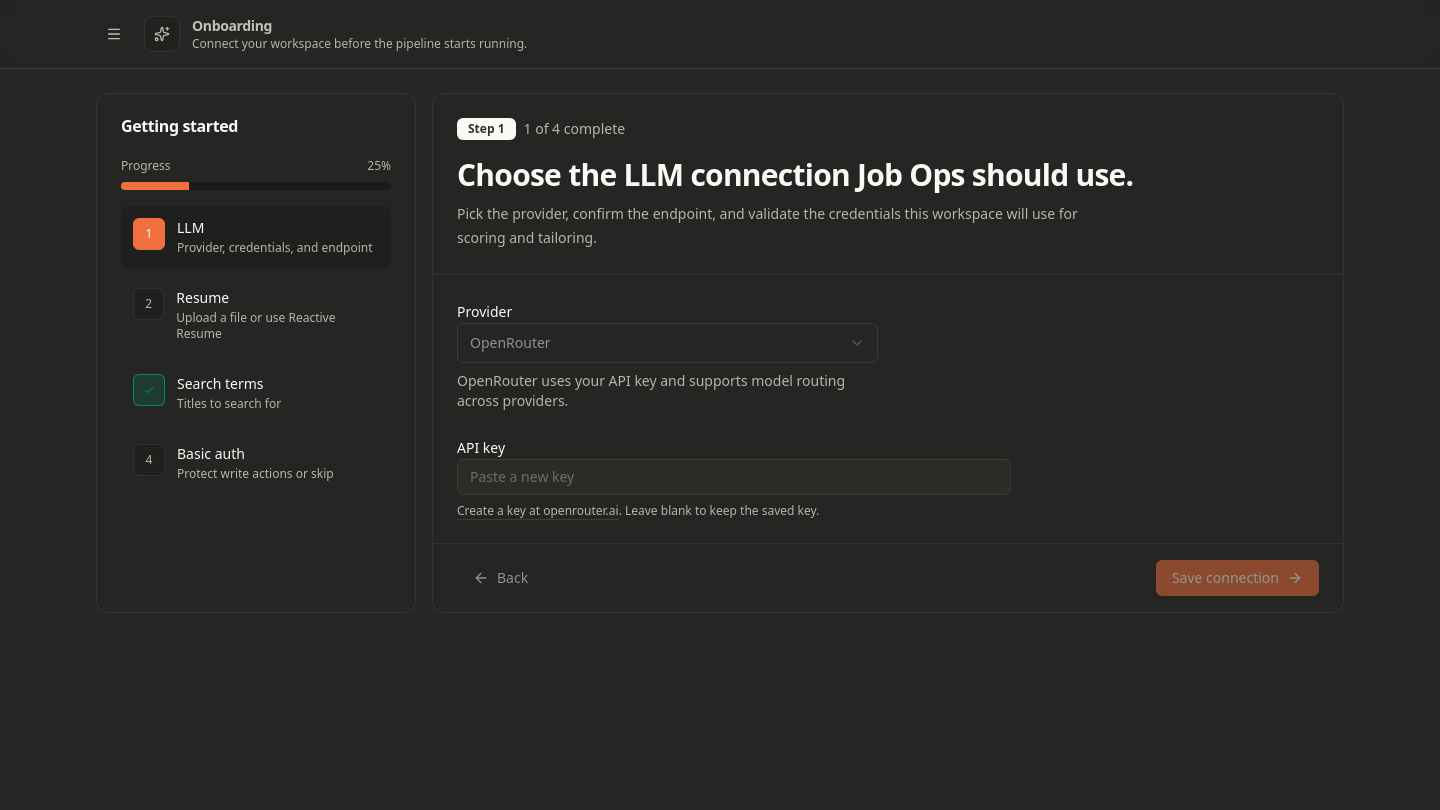
Test: OnboardingPage › does not auto-generate search terms when explicit saved terms already exist
What coordinates should you click on to do the following:
click the button "✓ Search terms Titles to search for"
I would click on:
 (256, 393)
Its box is [121,362,391,424].
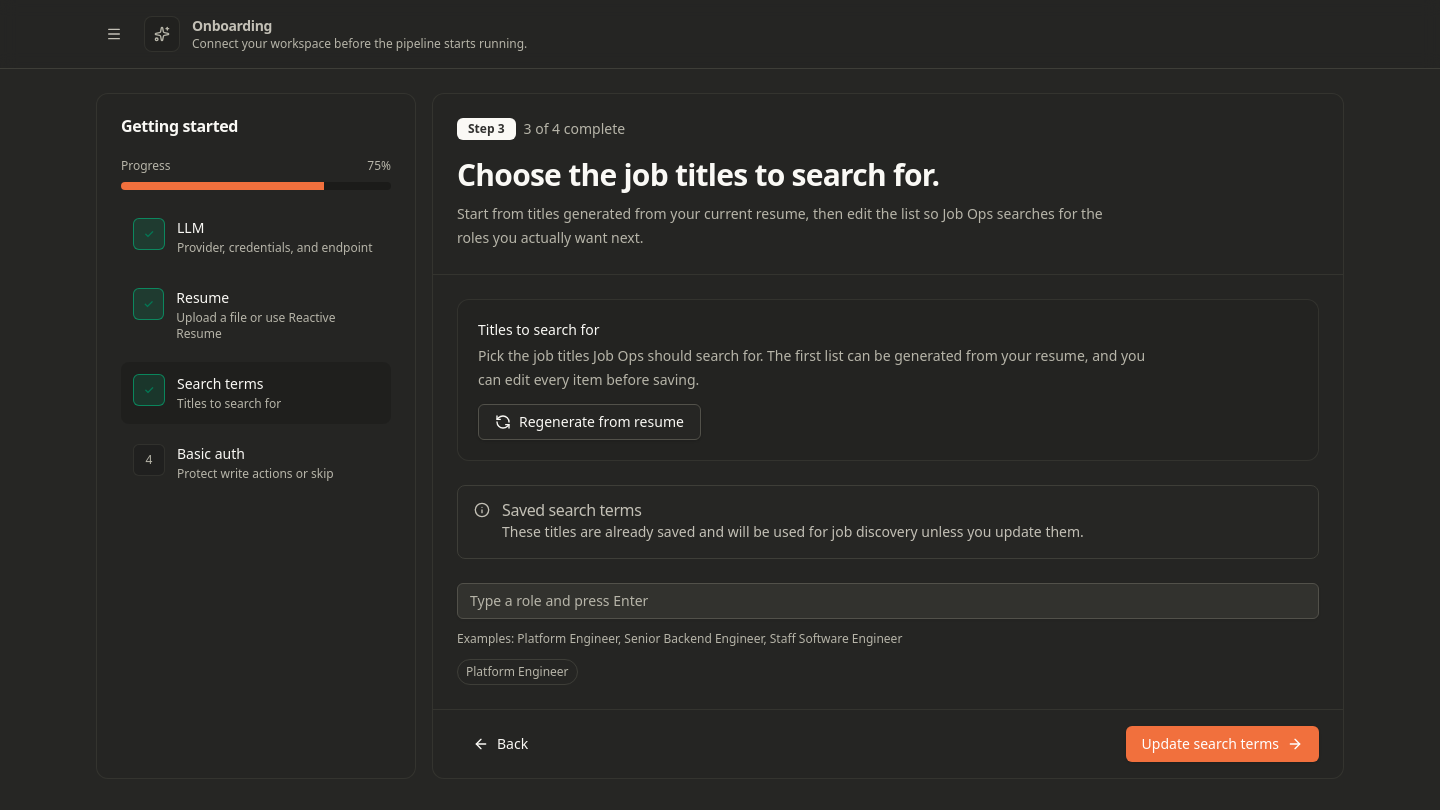
Result: the text "Choose the job titles to search for." is shown at [457,154,939,195]
Result: the heading "Saved search terms" is shown at [502,498,641,520]
